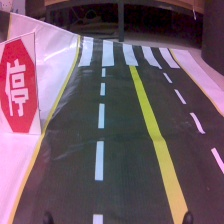stop: (1, 34, 47, 137)
